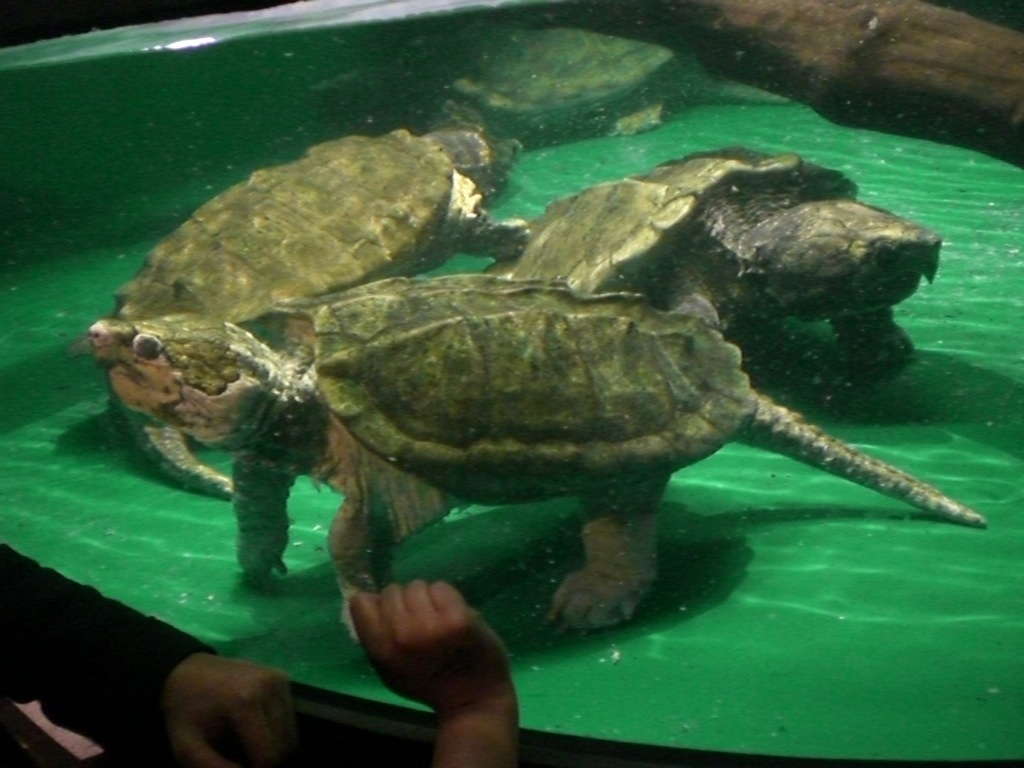Sea turtles: (78, 269, 979, 640), (62, 120, 529, 505), (474, 141, 942, 383), (300, 21, 672, 145)
